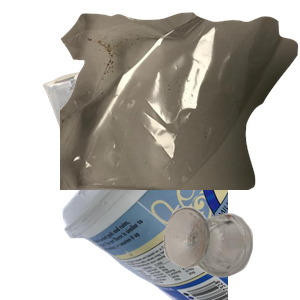glass: (161, 202, 300, 300)
paper: (40, 35, 249, 187)
plastic: (60, 120, 300, 300)
trash: (60, 10, 300, 190)
